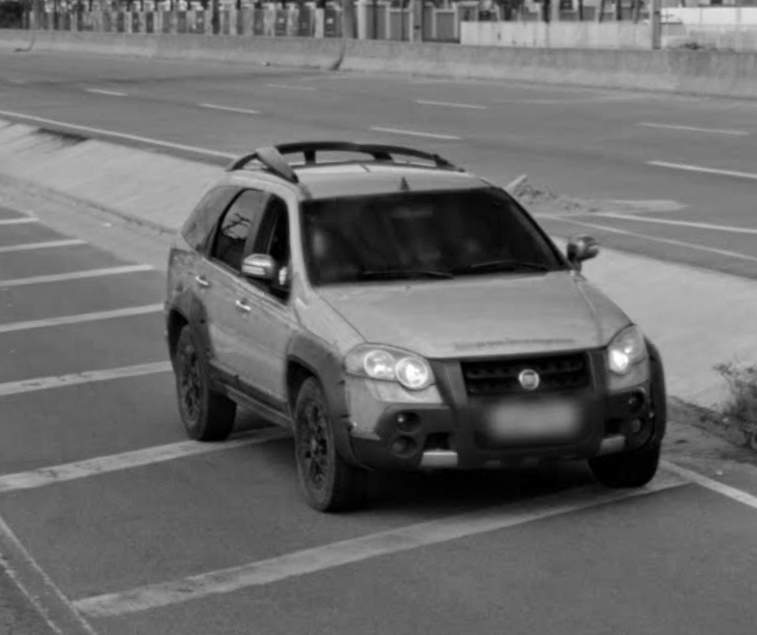car: (160, 137, 668, 514)
